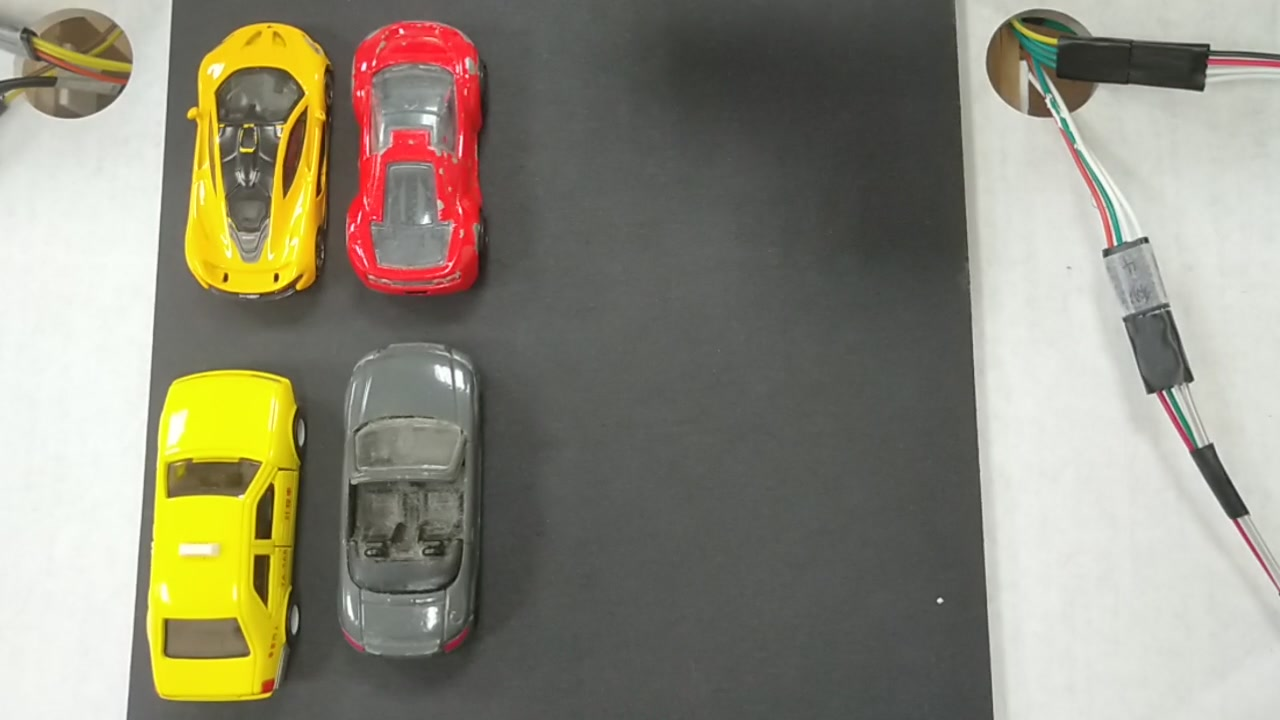car: (143, 371, 305, 709), (184, 24, 334, 310), (342, 341, 479, 649), (349, 25, 481, 297)
